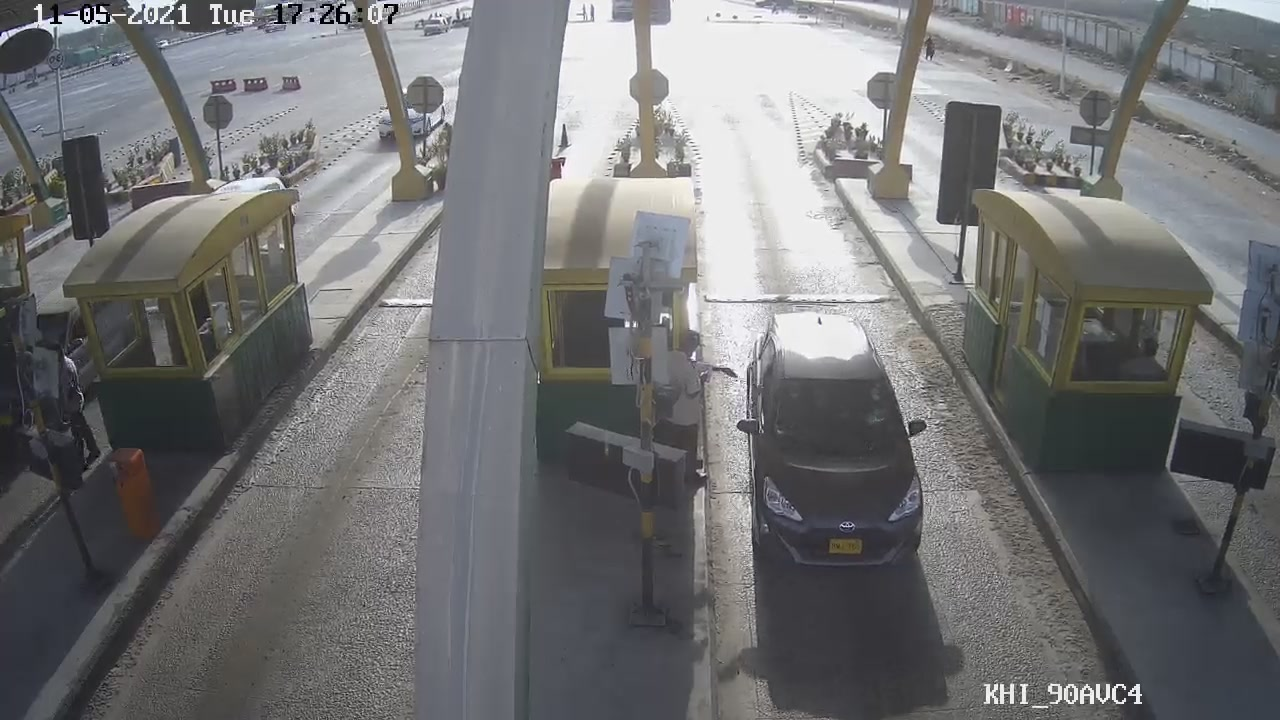F1: (729, 307, 930, 582)
